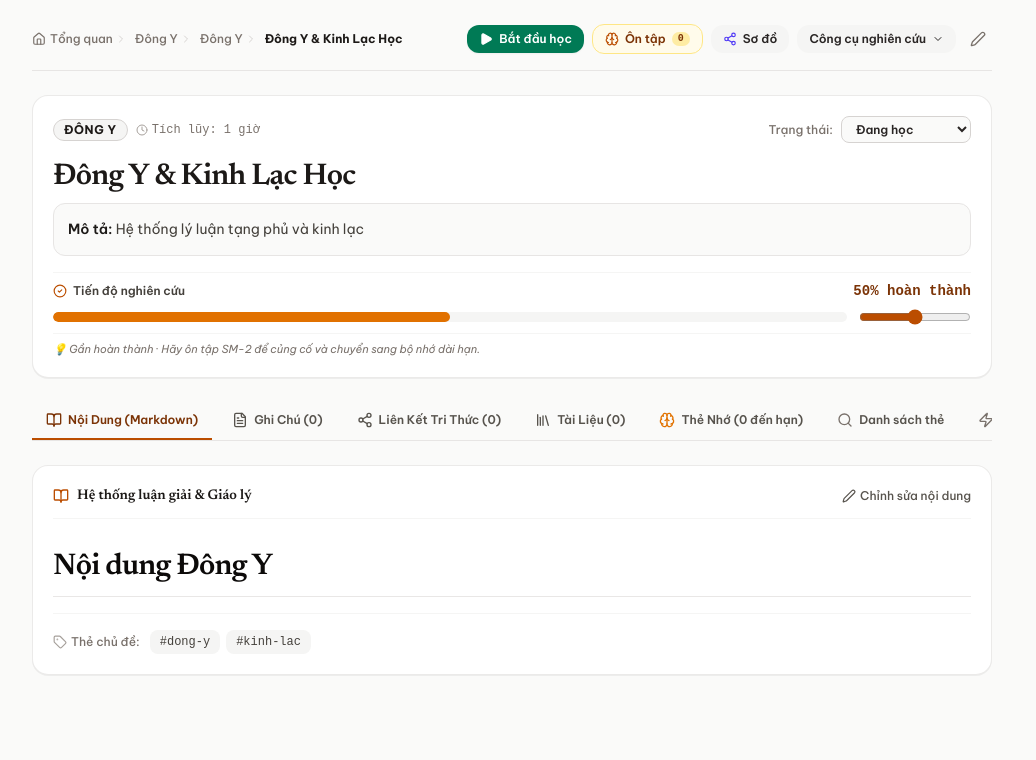
Test: Phase F6.4 — Topic Detail Flashcard Hub › 7. renders clean zero-cards empty state when topic has 0 flashcards
Step 1. Click the button with test id "tab-btn-flashcards" → {"x": 731, "y": 421}, box [646,402,817,440]
(page scrolled)
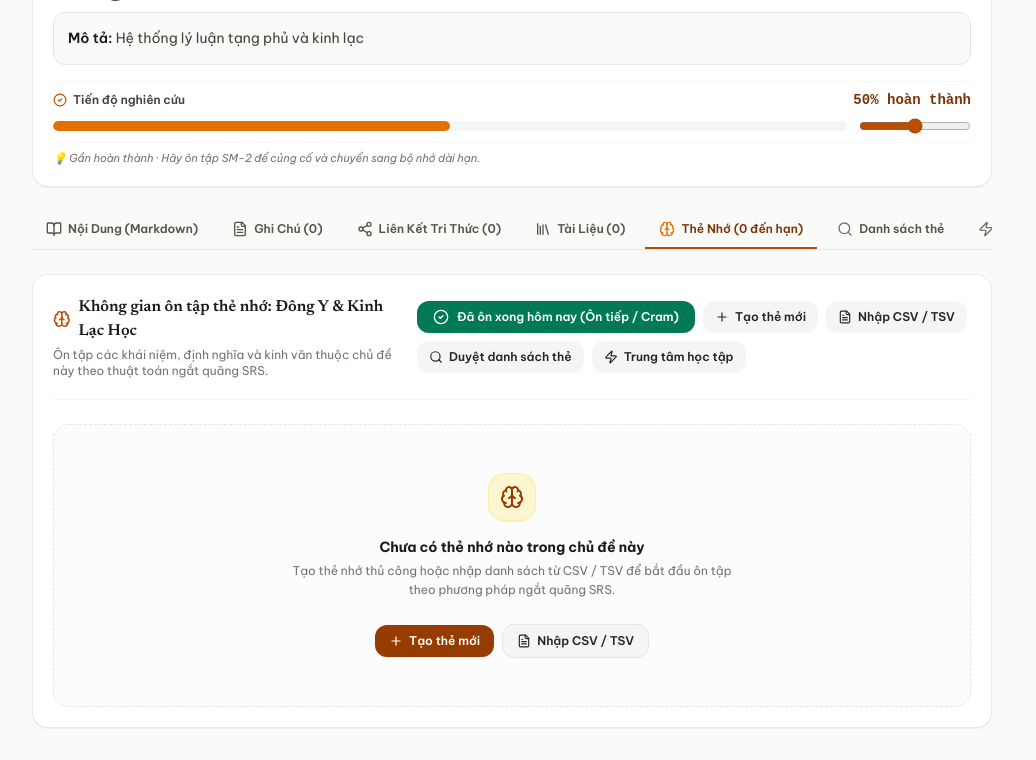
Result: the element with test id "topic-flashcard-empty-state" is shown at [53,424,971,707]
Result: the element with test id "topic-flashcard-empty-state" shows "Chưa có thẻ nhớ" at [379,538,645,556]
Result: the button with test id "btn-topic-create-card" is shown at [375,625,494,657]
